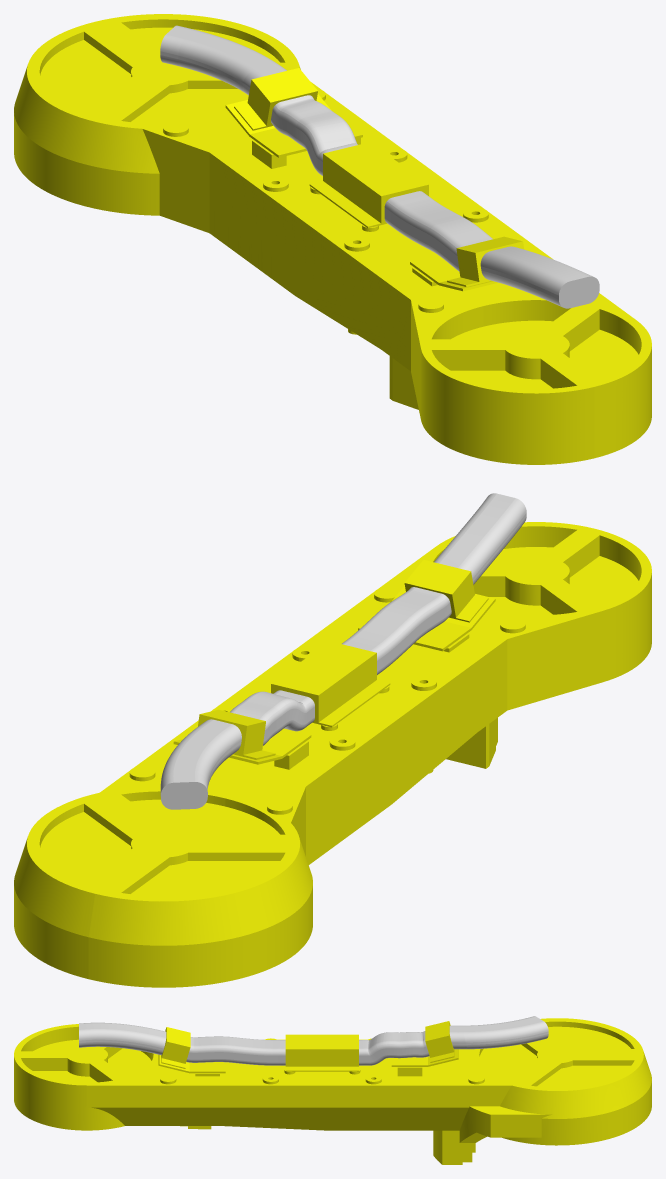
3 views of the same model, one above another, from view 1: azimuth 30°, elevation 25°; view 2: azimuth 150°, elevation 25°; view 3: azimuth 270°, elevation 25° (orthographic). The views are drawn at different scales.
Visible parts, largest first — view 1: Mesh_0; view 2: Mesh_0; view 3: Mesh_0.
Part boxes in pixels (left/top/right/bottom): Mesh_0: left=14, top=14, right=651, bottom=464; Mesh_0: left=14, top=493, right=651, bottom=987; Mesh_0: left=14, top=1016, right=651, bottom=1164.
Bounding box in the file's own units: 0.3489 × 0.2526 × 1.18.
